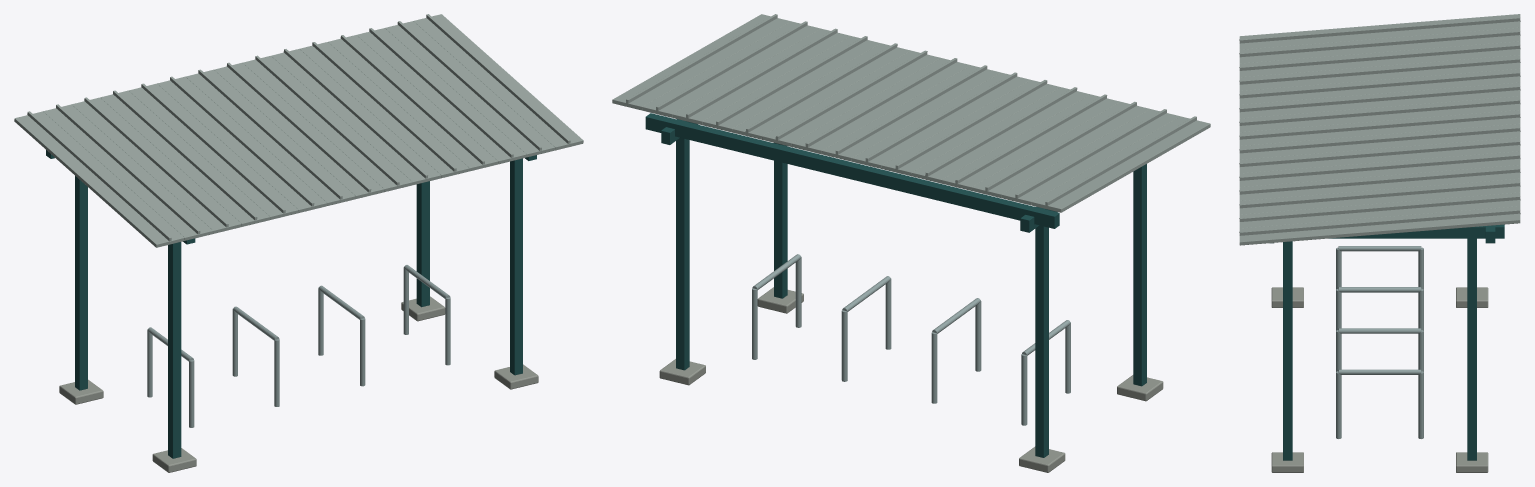
File: parent.glb
3 views of the same model, side by side, from view 1: azimuth 30°, elevation 25°; view 2: azimuth 150°, elevation 25°; view 3: azimuth 270°, elevation 25° (orthographic). The views are drawn at different scales.
Parts seen in each view (by area): view 1: ROOF_Sheet_00, ROOF_Sheet_02, ROOF_Sheet_05, ROOF_Sheet_07, ROOF_Sheet_04, ROOF_Sheet_01, ROOF_Sheet_03, ROOF_Sheet_09, ROOF_Sheet_10, ROOF_Sheet_12, ROOF_Sheet_14, ROOF_Sheet_08 (+26 smaller); view 2: BEAM_Long, ROOF_Sheet_00, COLUMN_Post, COLUMN_Post.002, ROOF_Sheet_03, ROOF_Sheet_02, ROOF_Sheet_14, ROOF_Sheet_01, ROOF_Sheet_04, ROOF_Sheet_06, ROOF_Sheet_07, ROOF_Sheet_10 (+27 smaller); view 3: ROOF_Sheet_14, ROOF_Sheet_05, ROOF_Sheet_09, ROOF_Sheet_07, ROOF_Sheet_10, ROOF_Sheet_11, ROOF_Sheet_00, ROOF_Sheet_02, ROOF_Sheet_03, ROOF_Sheet_12, ROOF_Sheet_13, ROOF_Sheet_01 (+31 smaller).
Boxes of the visible parts, x1,y1,x2,y2 form: ROOF_Sheet_00: (14, 111, 184, 247); ROOF_Sheet_02: (72, 97, 241, 233); ROOF_Sheet_05: (157, 76, 327, 212); ROOF_Sheet_07: (214, 63, 384, 198); ROOF_Sheet_04: (128, 83, 298, 219); ROOF_Sheet_01: (43, 104, 213, 240); ROOF_Sheet_03: (100, 90, 270, 226); ROOF_Sheet_09: (271, 49, 440, 184); ROOF_Sheet_10: (299, 42, 469, 178); ROOF_Sheet_12: (357, 28, 526, 164); ROOF_Sheet_14: (413, 14, 583, 150); ROOF_Sheet_08: (242, 56, 412, 192); BEAM_Long: (645, 113, 1059, 228); ROOF_Sheet_00: (1031, 116, 1210, 212); COLUMN_Post: (676, 138, 689, 370); COLUMN_Post.002: (1035, 225, 1048, 457); ROOF_Sheet_03: (941, 94, 1120, 190); ROOF_Sheet_02: (971, 102, 1150, 197); ROOF_Sheet_14: (612, 14, 790, 110); ROOF_Sheet_01: (1001, 109, 1180, 205); ROOF_Sheet_04: (911, 87, 1090, 183); ROOF_Sheet_06: (852, 72, 1030, 168); ROOF_Sheet_07: (822, 65, 1000, 161); ROOF_Sheet_10: (732, 43, 910, 139); ROOF_Sheet_14: (1239, 206, 1520, 245); ROOF_Sheet_05: (1239, 82, 1520, 118); ROOF_Sheet_09: (1239, 137, 1520, 173); ROOF_Sheet_07: (1239, 110, 1520, 145); ROOF_Sheet_10: (1239, 151, 1520, 187); ROOF_Sheet_11: (1239, 165, 1520, 200); ROOF_Sheet_00: (1239, 14, 1520, 49); ROOF_Sheet_02: (1239, 41, 1520, 77); ROOF_Sheet_03: (1239, 55, 1520, 90); ROOF_Sheet_12: (1239, 179, 1520, 214); ROOF_Sheet_13: (1239, 192, 1520, 228); ROOF_Sheet_01: (1239, 27, 1520, 63).
Bounding box in the file's own units: 4.5 × 2.75 × 2.59.
